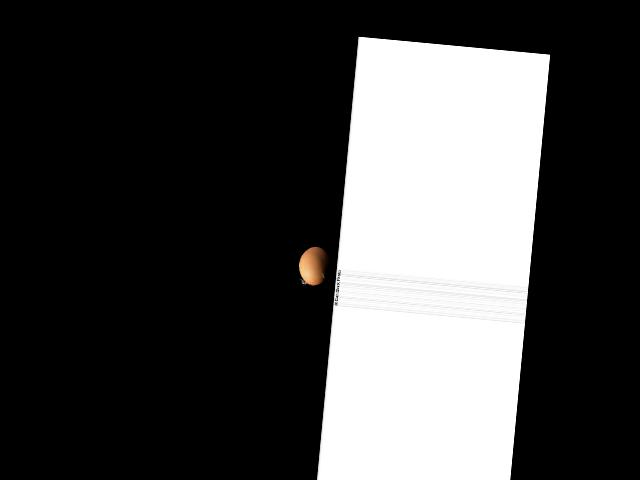egg: (297, 244, 332, 286)
